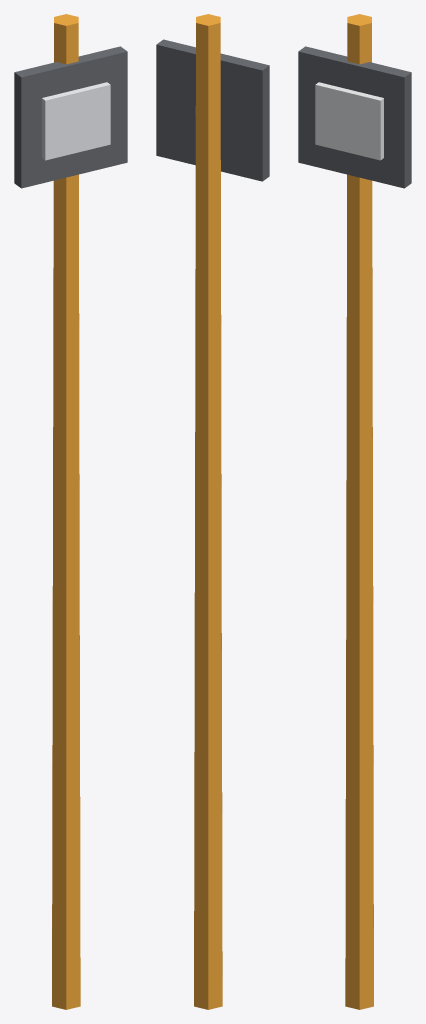
Rendered from pistepole.glb.
3 renders of one model, left to right at view 1: azimuth 30°, elevation 25°; view 2: azimuth 150°, elevation 25°; view 3: azimuth 330°, elevation 25°, orthographic.
Parts seen in each view (by area): view 1: piste-marker-pole; view 2: piste-marker-pole; view 3: piste-marker-pole.
Boxes of the visible parts, x1=… form: piste-marker-pole: x1=14, y1=14, x2=127, y2=1009; piste-marker-pole: x1=156, y1=14, x2=269, y2=1009; piste-marker-pole: x1=298, y1=14, x2=411, y2=1009.
Bounding box in the file's own units: 0.26 × 2.3 × 0.0803.
